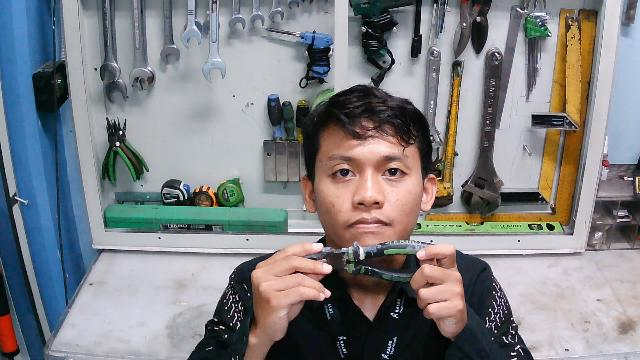tang_kombinasi: (299, 241, 450, 285)
